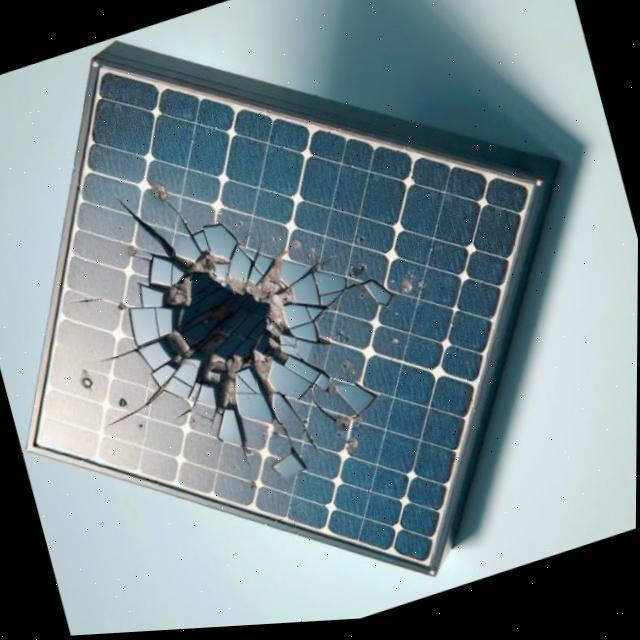Anomaly Solar Panel: (0, 73, 550, 577)
Structural Damage: (88, 206, 421, 493), (100, 373, 183, 442), (105, 188, 176, 262), (276, 395, 325, 467), (161, 201, 194, 240), (97, 348, 139, 370), (66, 300, 102, 308)
